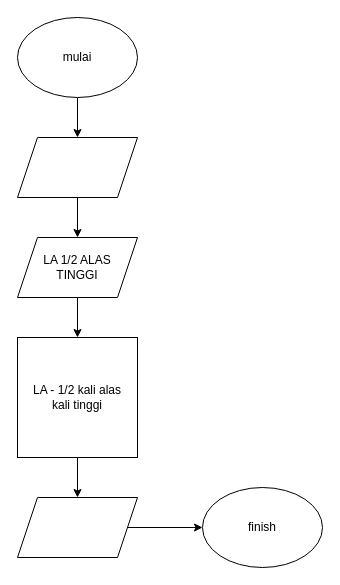
Some shapes in this 340 by 585 pixel diagram are drawn without their labels. The box of each missing label's shape, as (x1, y1, x2, y2) in pixels:
luas segitiga: (16, 496, 138, 558)
menghitung luas segitiga: (16, 136, 138, 198)
